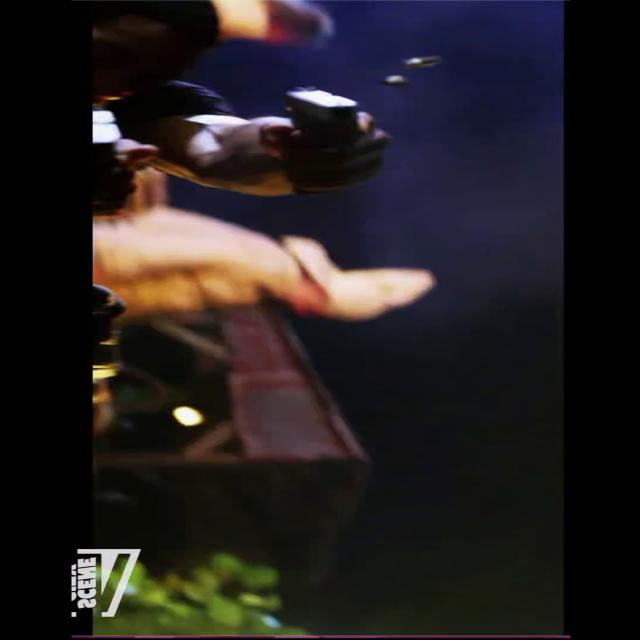weapons: (255, 85, 403, 206)
